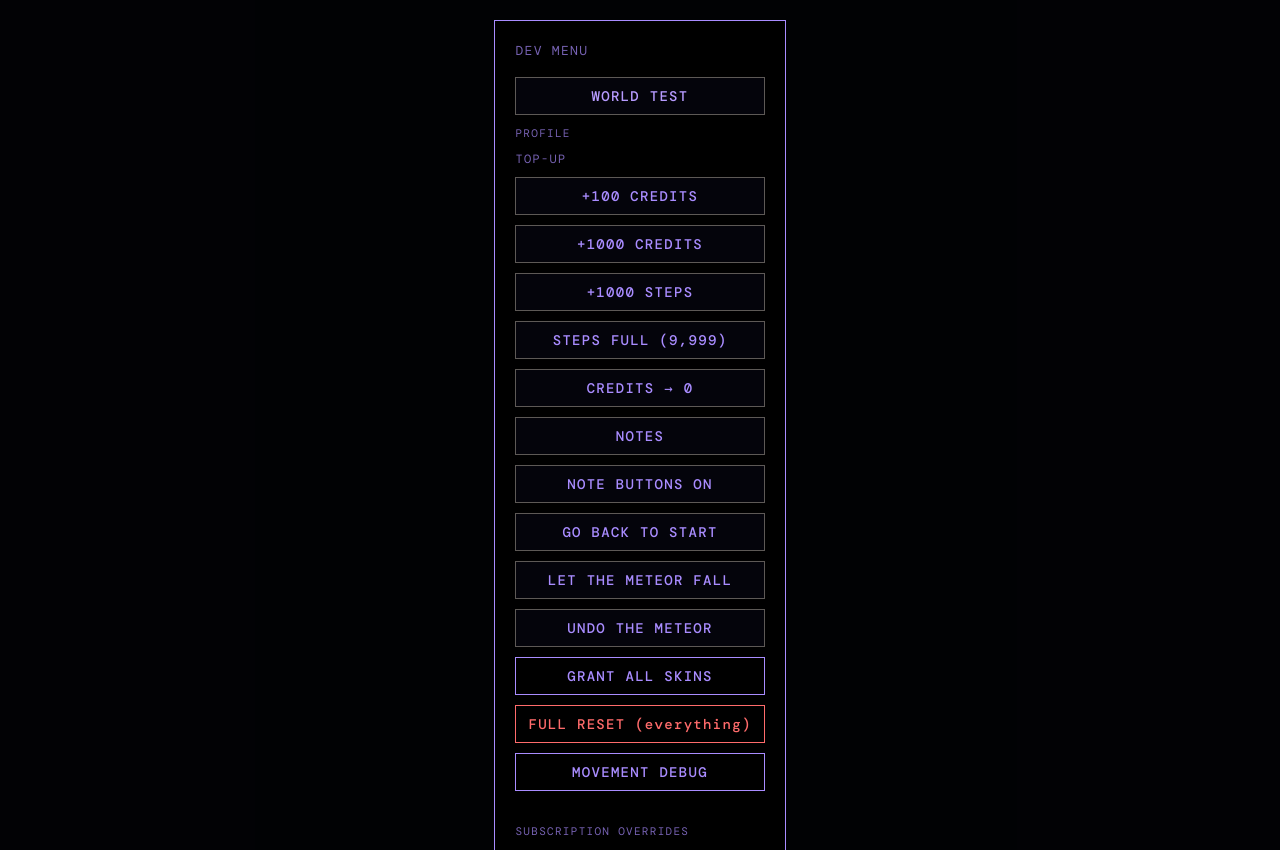
Test case: dev top-ups › does not publish balances on failure
The width and height of the screenshot is (1280, 850).
Click the button "+100 CREDITS": (640, 196) x1=515 y1=177 x2=764 y2=215
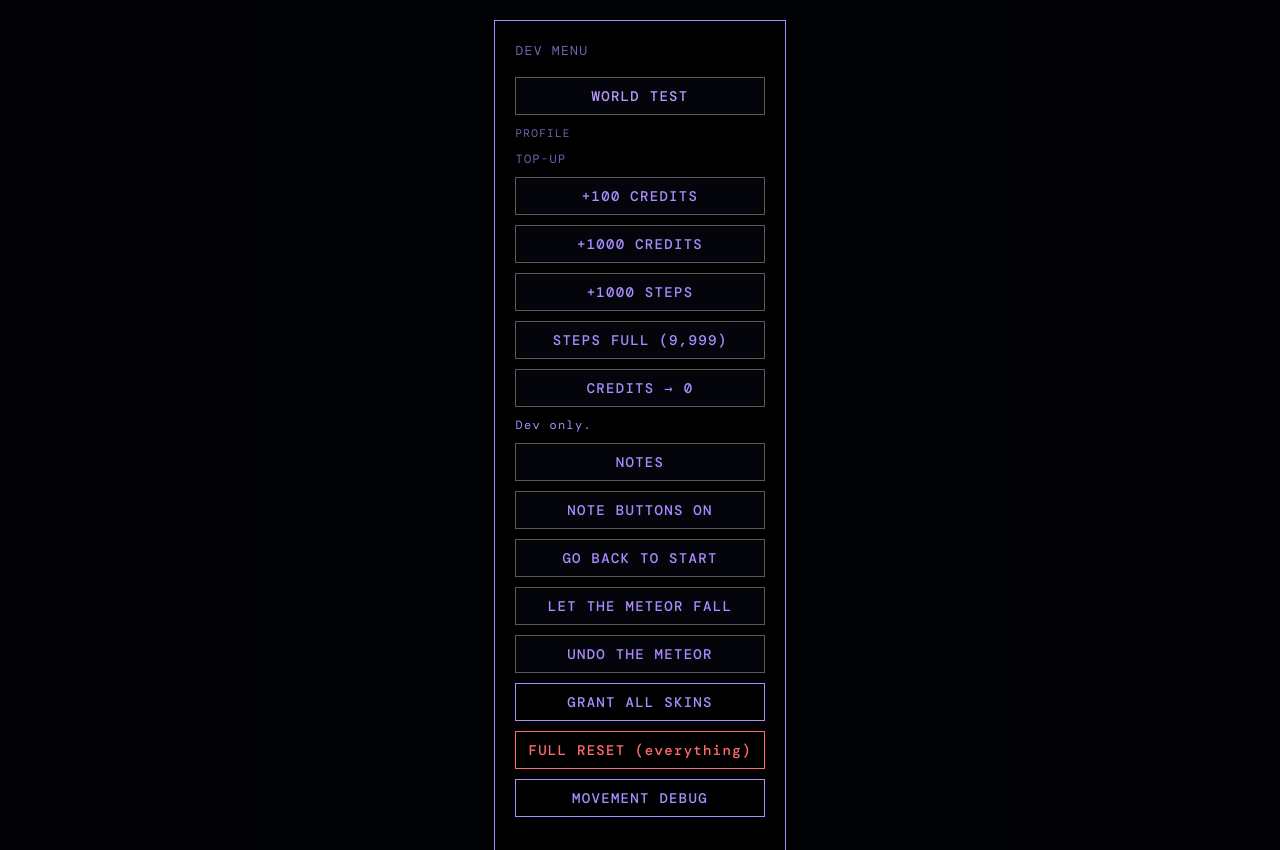
expect the text "Dev only." is shown: met, box x1=515 y1=417 x2=592 y2=433
